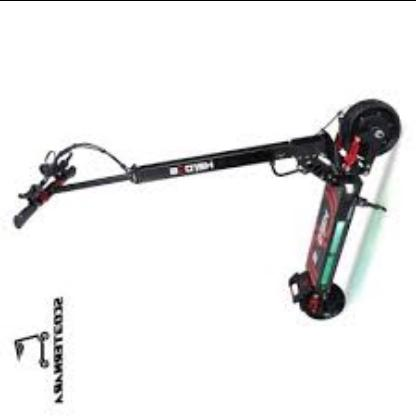bike: (10, 98, 402, 322)
